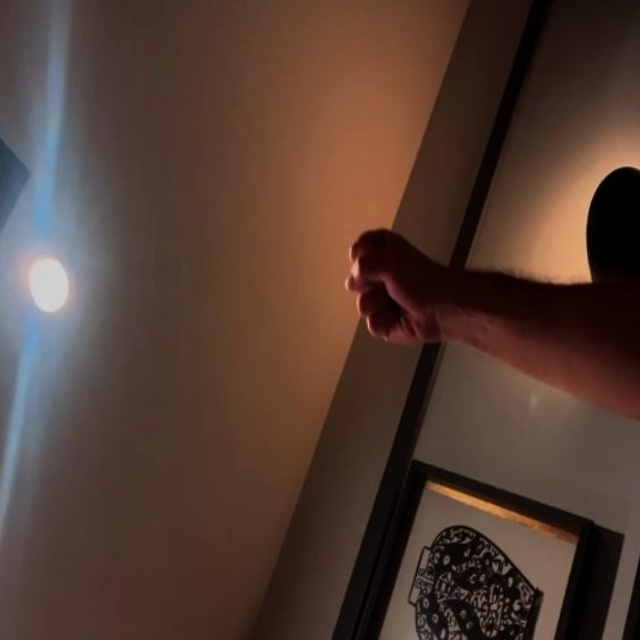Rock: (340, 222, 442, 348)
